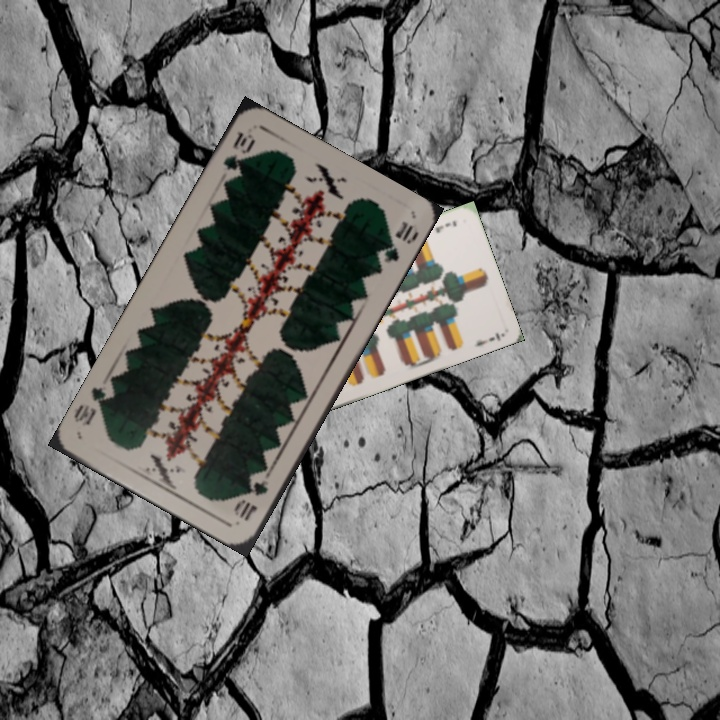E7: (431, 217, 459, 236)
G10: (230, 476, 271, 524), (219, 128, 259, 173)
